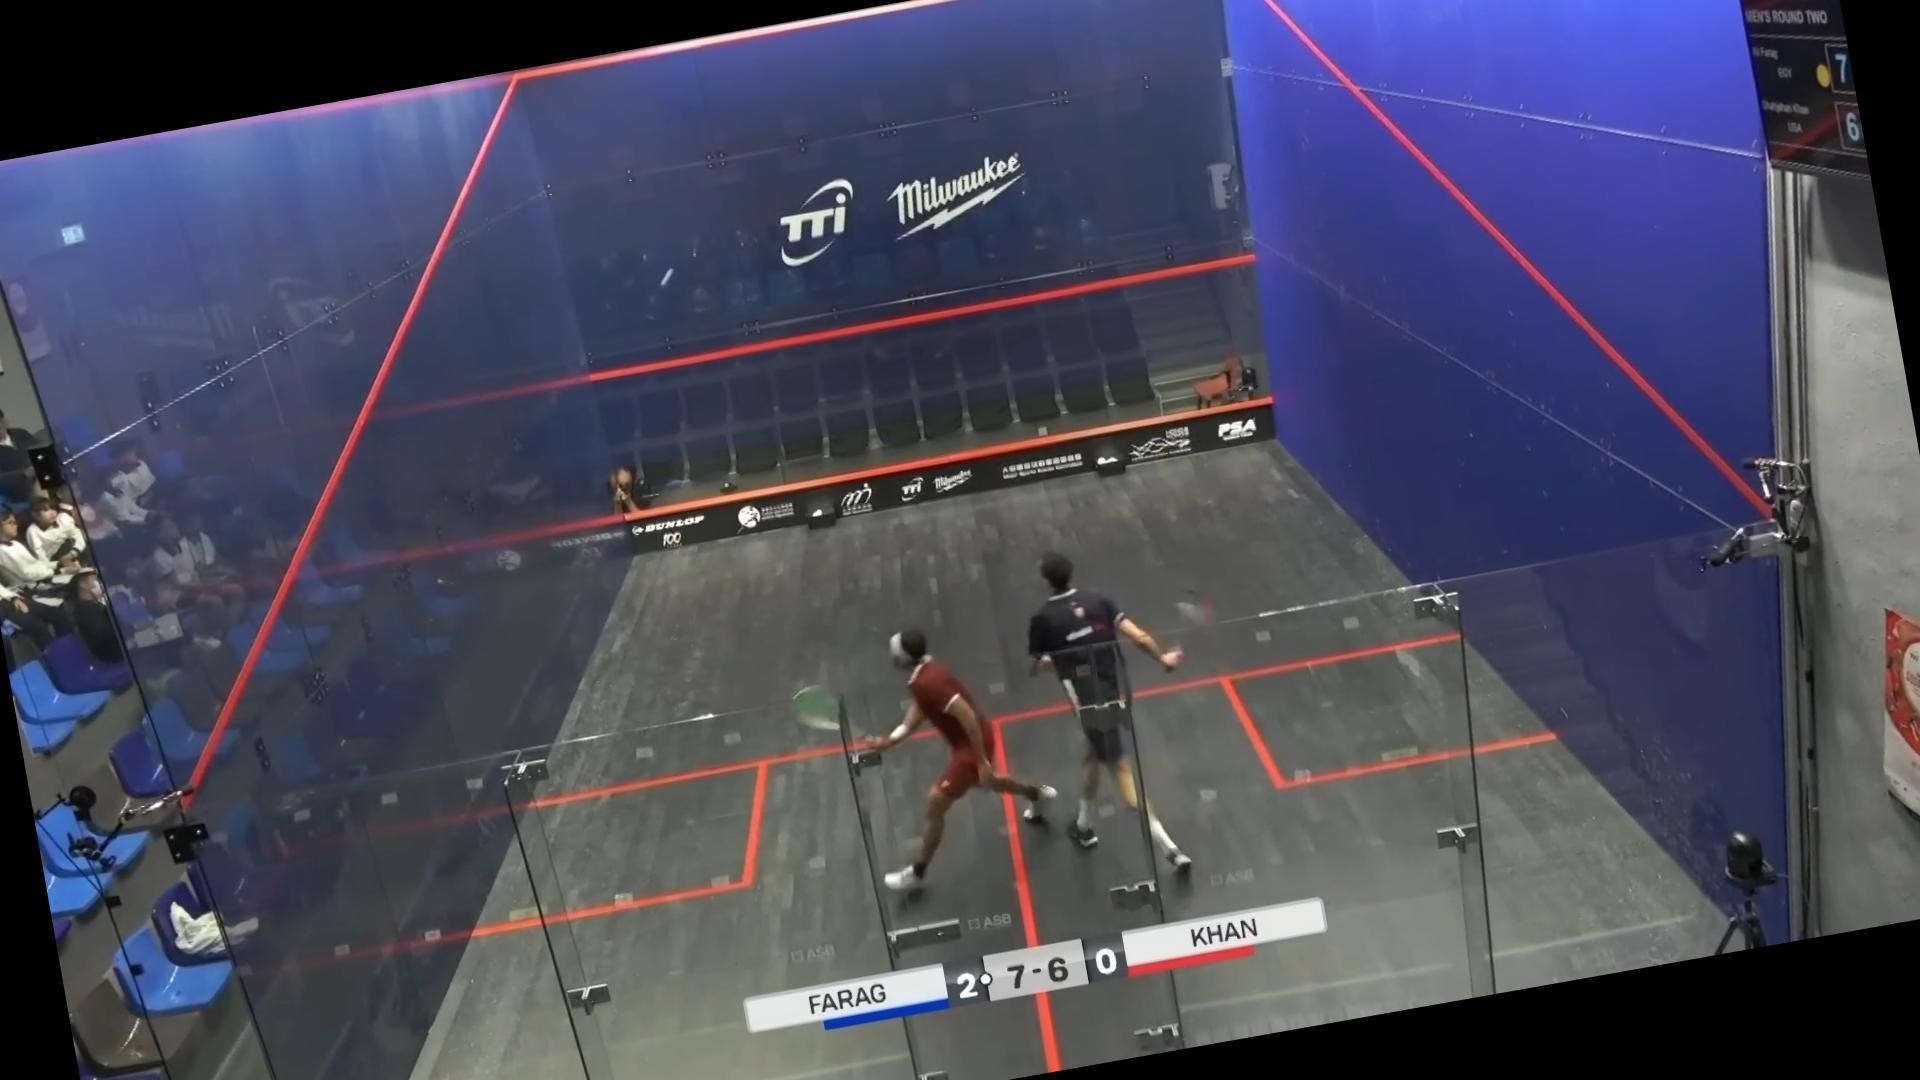Racket: (782, 671, 877, 756)
